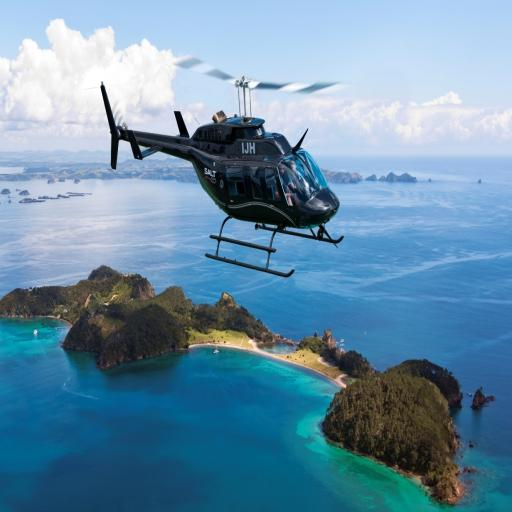helicopter: (101, 58, 347, 289)
